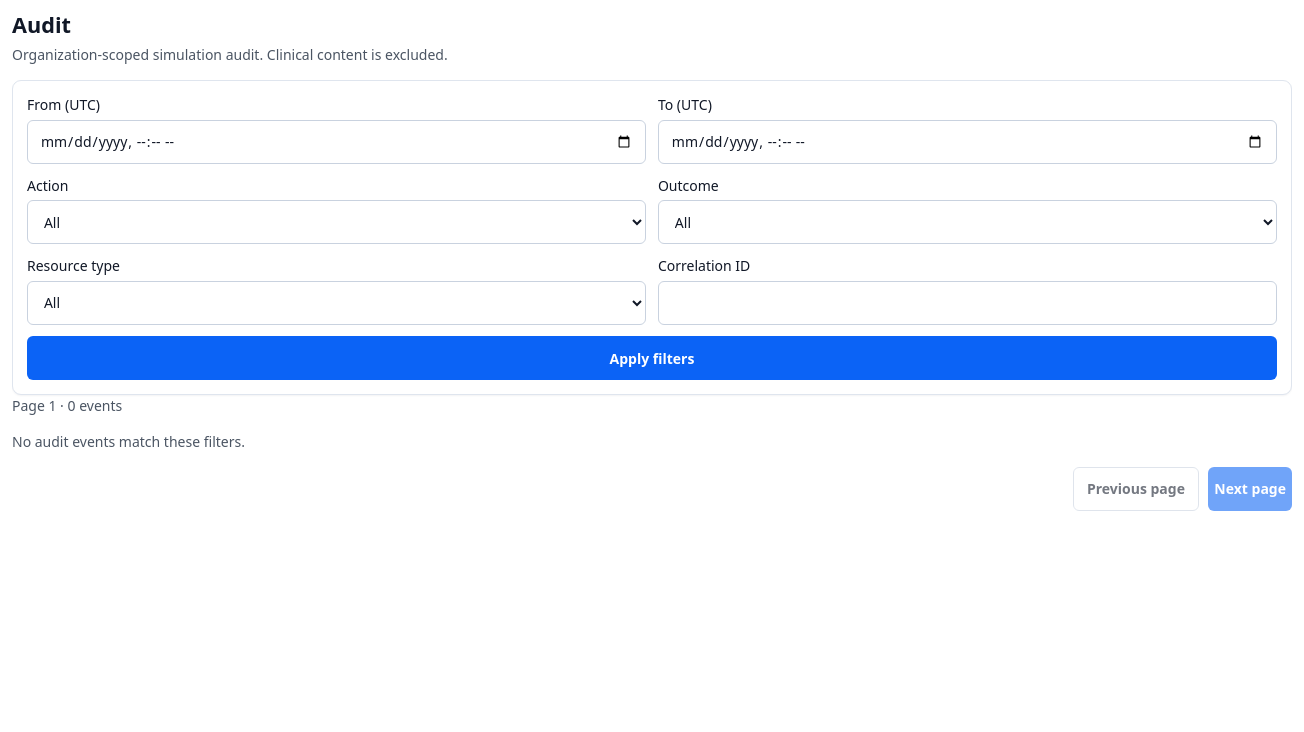
Test: unsafe correlation is rejected before any query URL is created
Check: the text "No audit events match these filters." is shown, box [12,432,245,451]
Type "phase10@example.invalid" into the field labelled "Correlation ID" at {"x": 967, "y": 303}, box [658,281,1277,325]
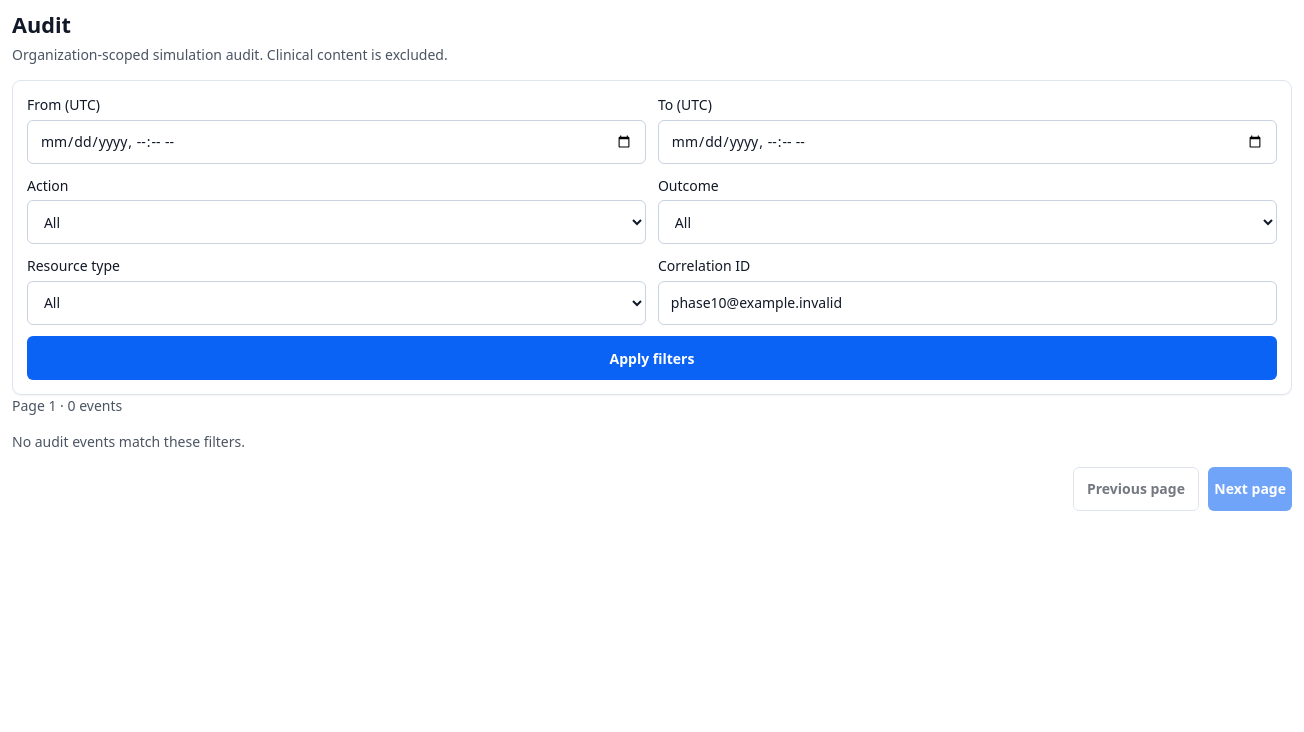
Submit the form named "Audit filters", box [12,80,1292,396]
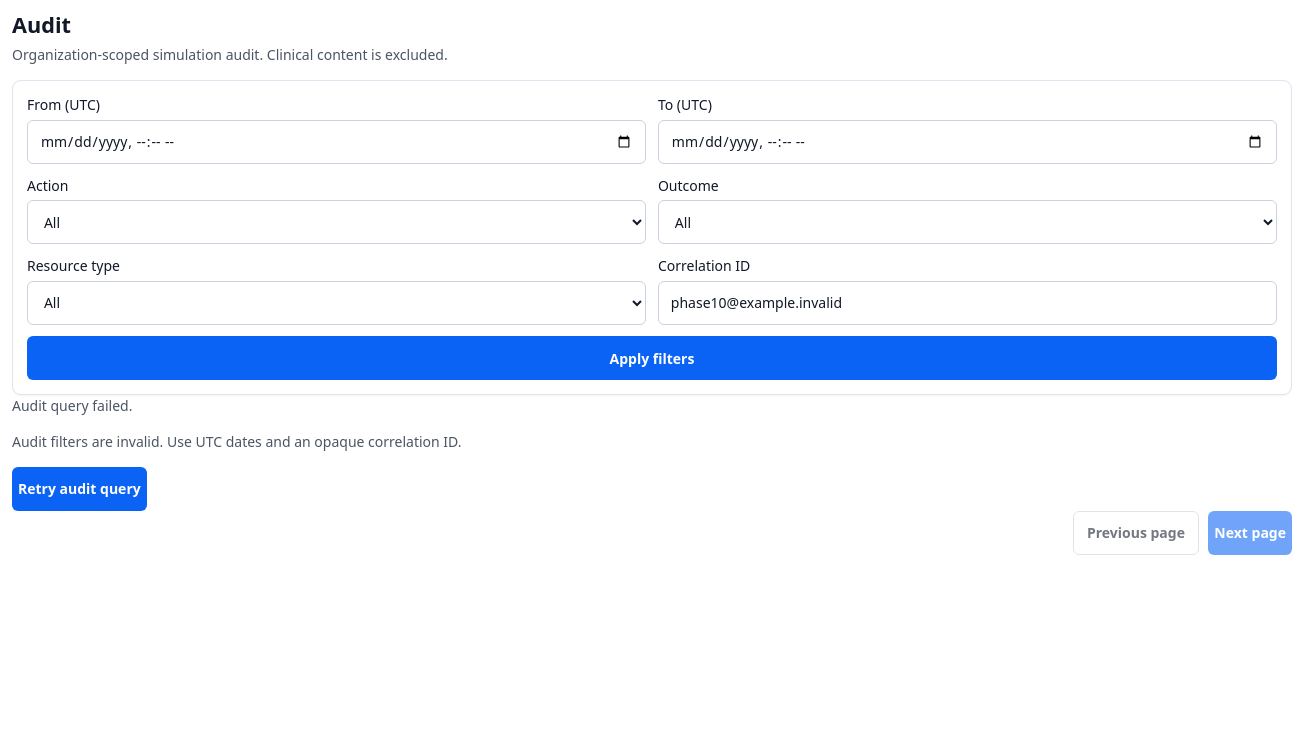
Check: the 2nd message is shown, box [12,432,462,511]
